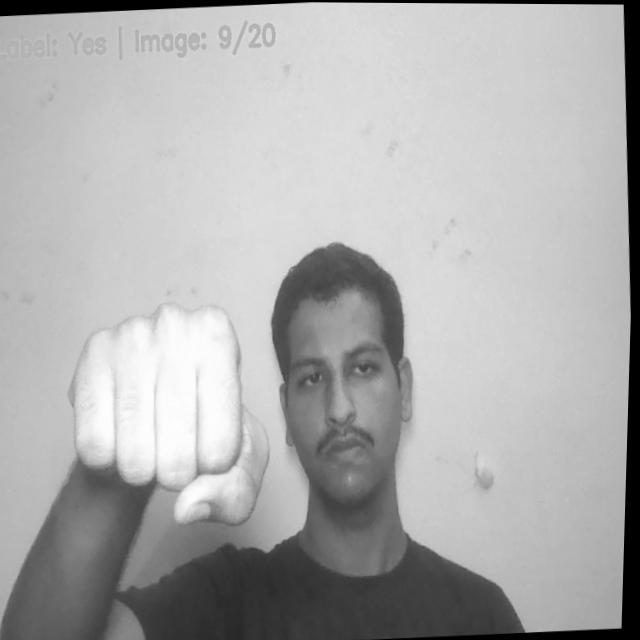Yes: (59, 286, 282, 541)
